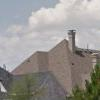Chimney: (61, 25, 80, 64)
